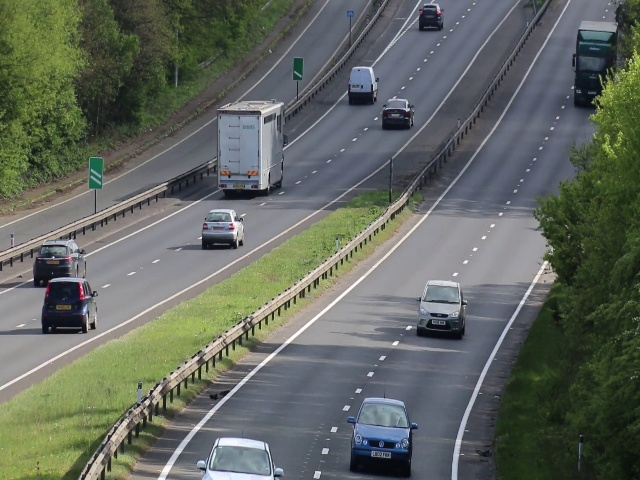car: (215, 100, 288, 197), (349, 398, 413, 472), (196, 438, 280, 480), (41, 277, 99, 332), (418, 281, 464, 338), (33, 241, 86, 275), (202, 209, 244, 249), (573, 47, 598, 110), (349, 63, 376, 107), (380, 99, 415, 130), (416, 2, 445, 32)
